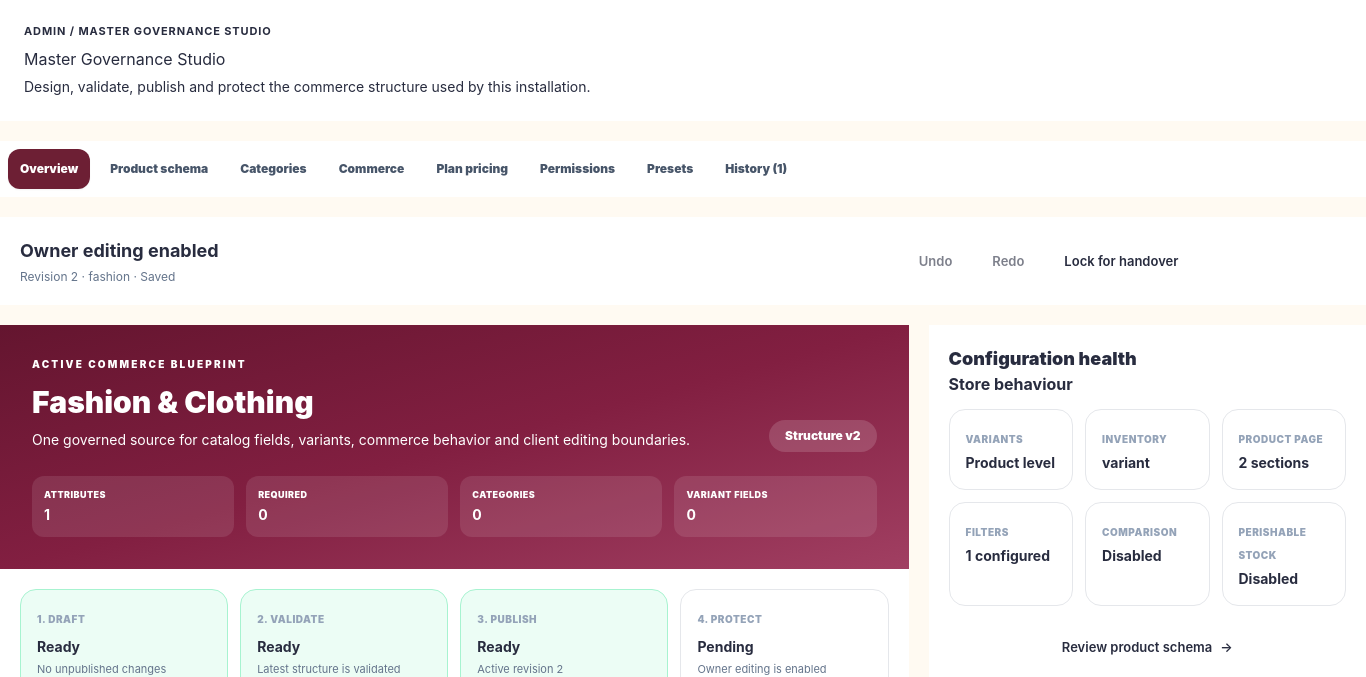
Test case: granular capabilities render and history restores a version only as a draft
The width and height of the screenshot is (1366, 677).
Click the button "Permissions": x=578, y=169 left=528, top=149, right=627, bottom=189
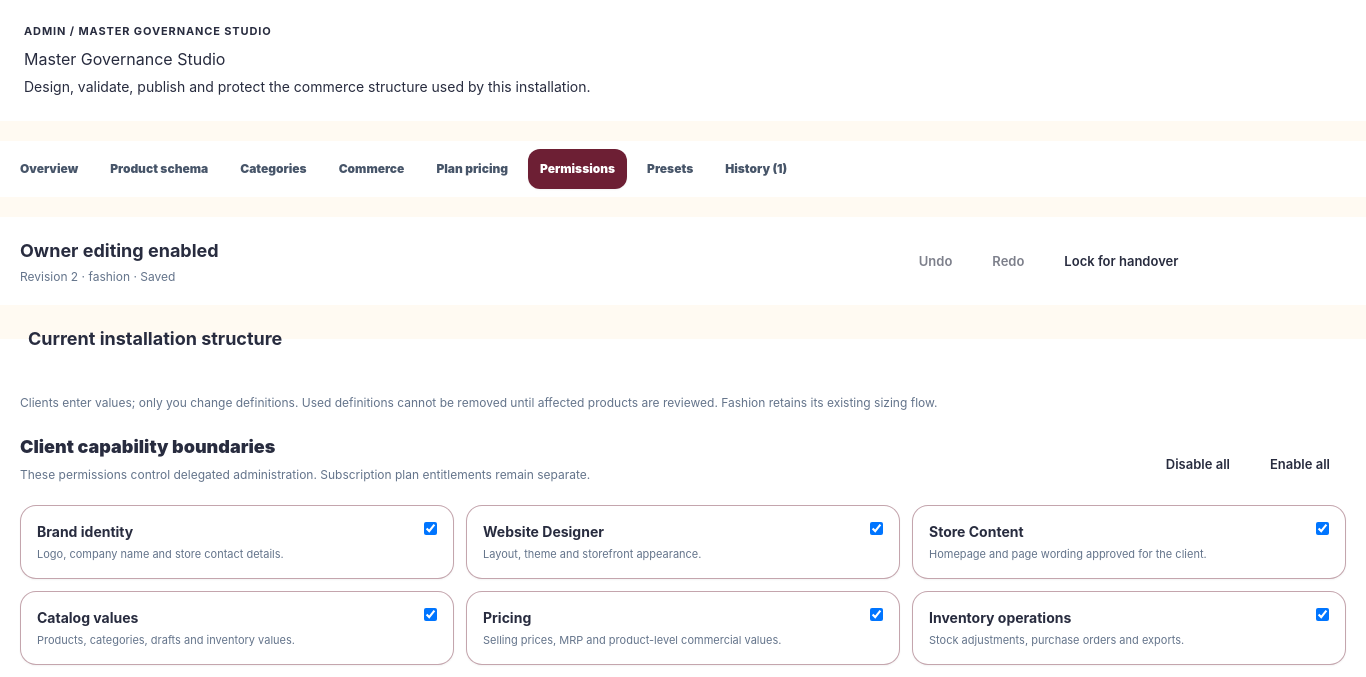
Click the button "History (1)": x=756, y=169 left=713, top=149, right=799, bottom=189
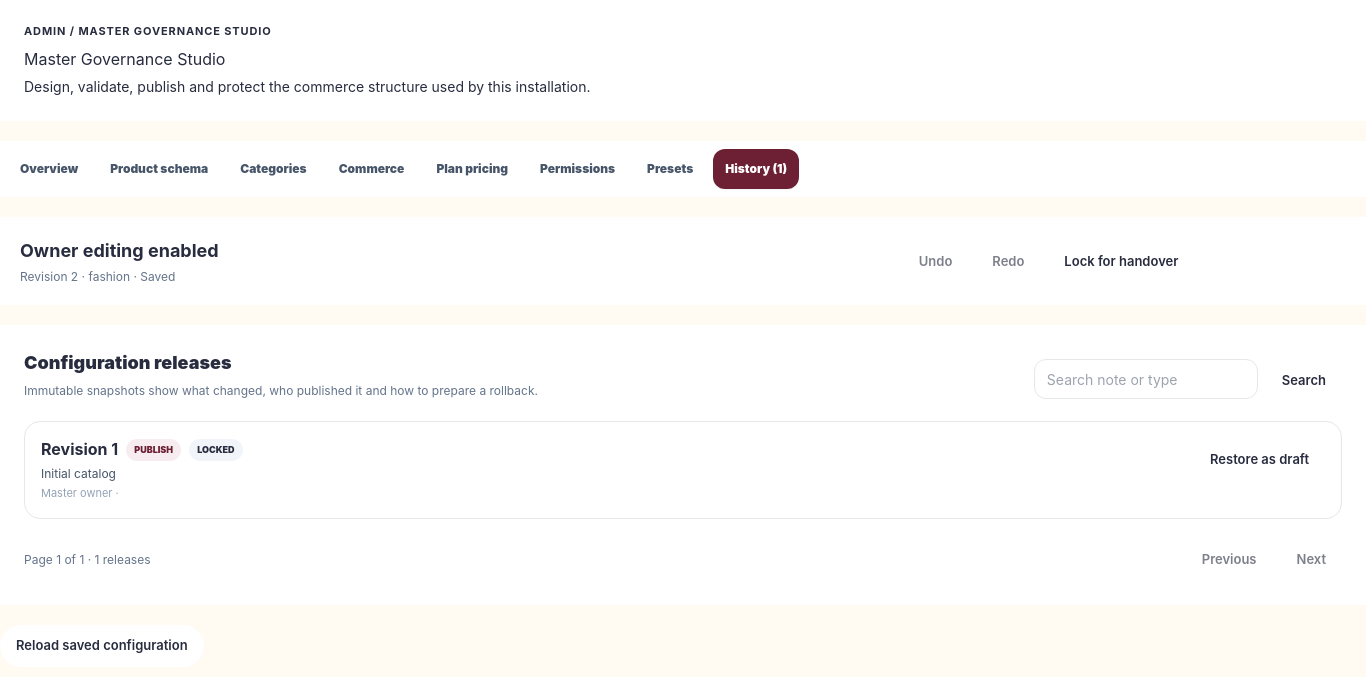
Click the button "Restore as draft": x=1260, y=459 left=1194, top=438, right=1325, bottom=480
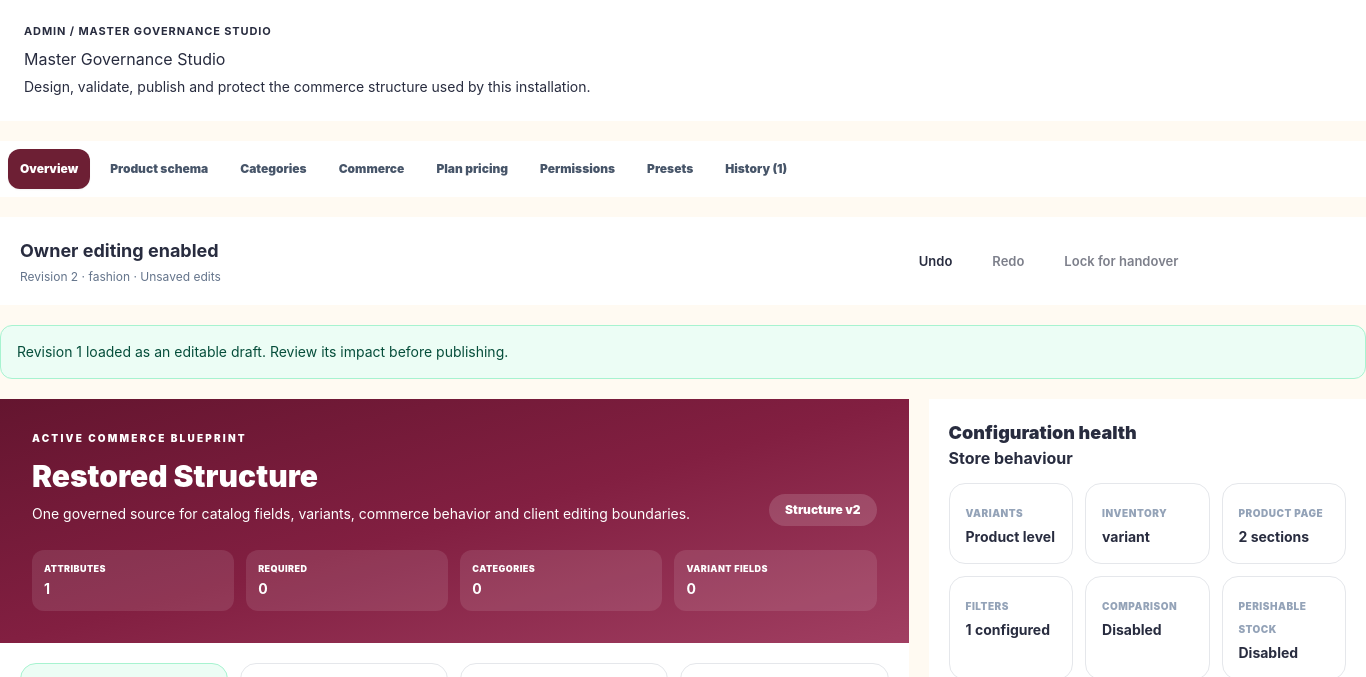
Check: the text "Revision 1 loaded as an editable draft. Review its impact before publishing." is shown, box left=0, top=325, right=1365, bottom=379
